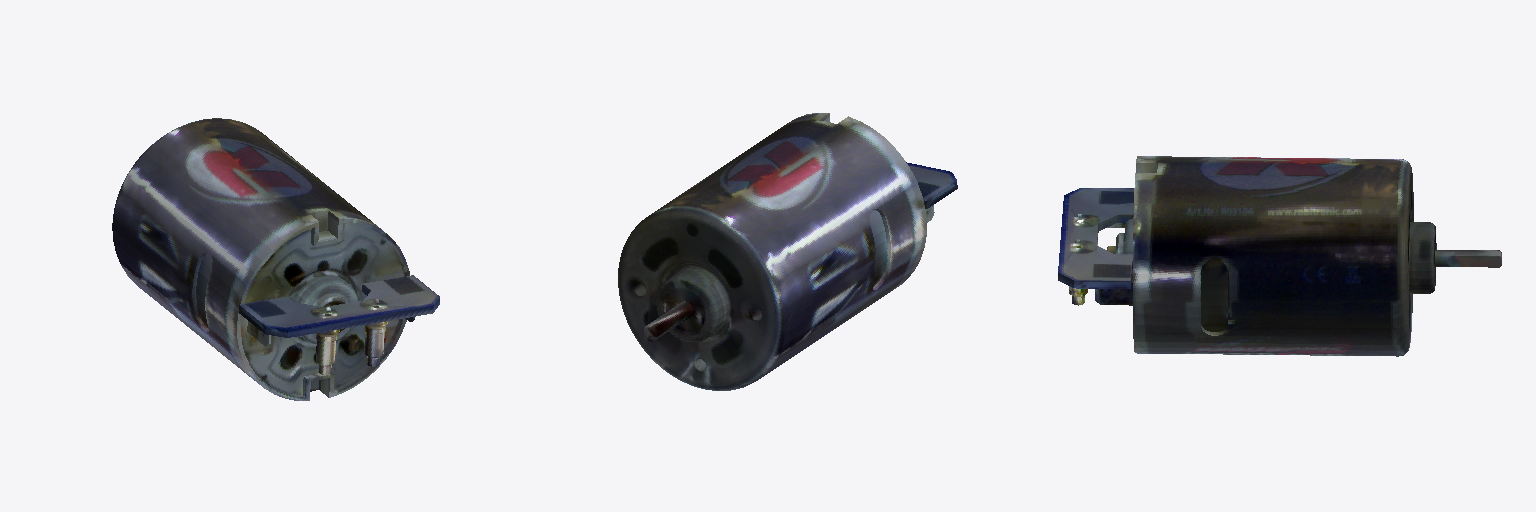
3 views of the same model, side by side, from view 1: azimuth 30°, elevation 25°; view 2: azimuth 150°, elevation 25°; view 3: azimuth 270°, elevation 25° (orthographic).
Bounding box in the file's own units: 37.93 × 36.17 × 80.86.
1 materials, 1 textured.